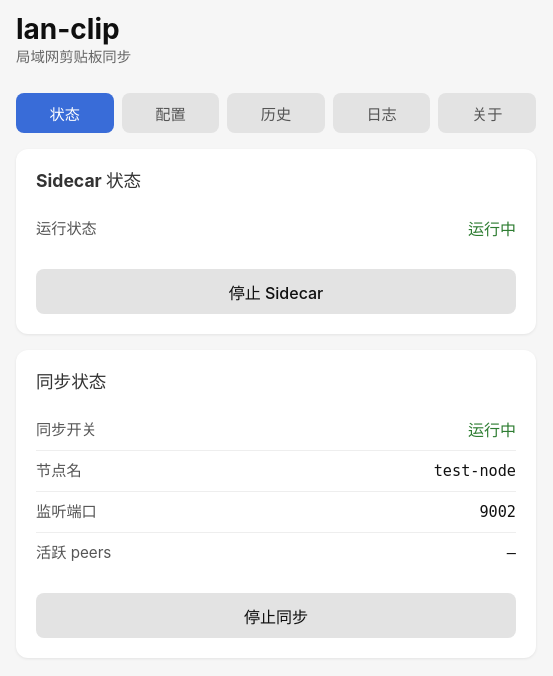
Test: App logs tab › shows log entries after clicking 日志 tab
Click the button "日志" at (382,113), box [333,93,430,133]
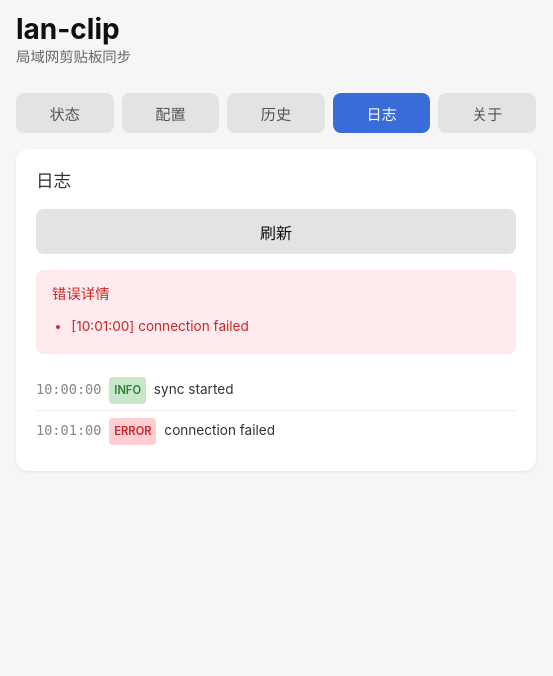
Check: the text "sync started" is shown, box [154,381,234,397]
Check: the text "connection failed" is shown, box [138,318,249,334]
Check: the text "info" is shown, box [110,377,146,404]
